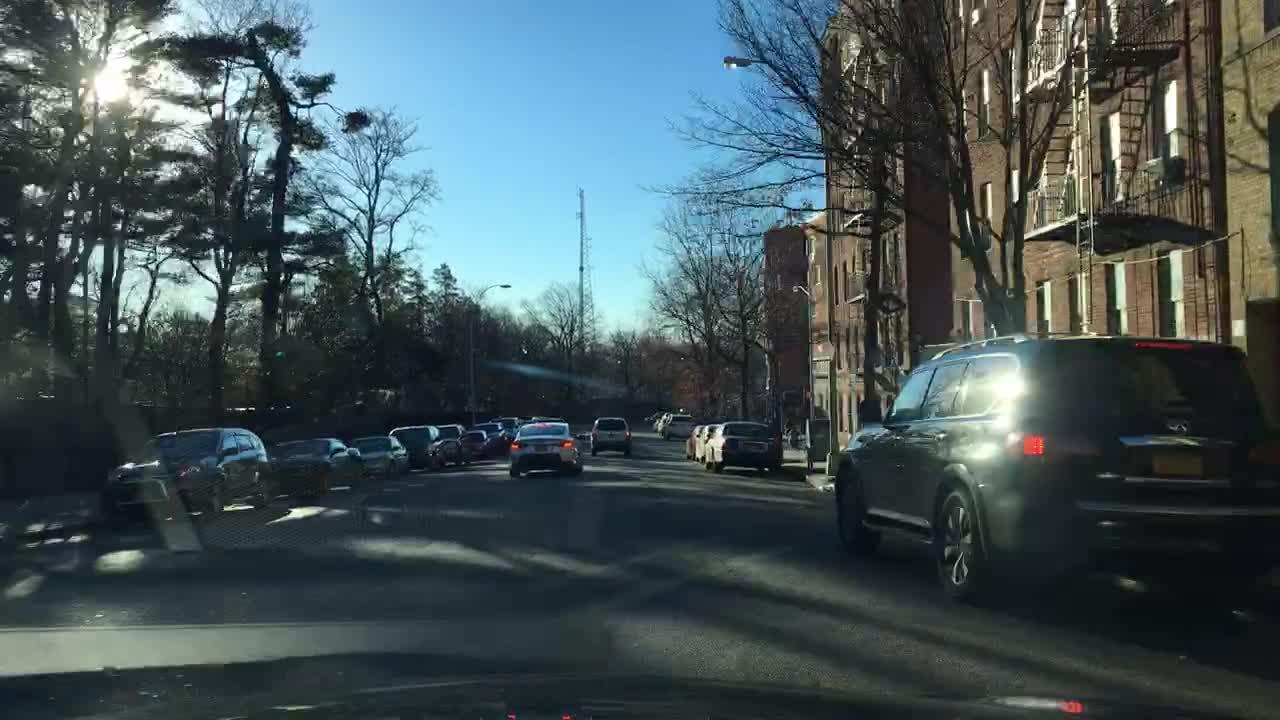Infiniti: (1163, 416, 1198, 437)
